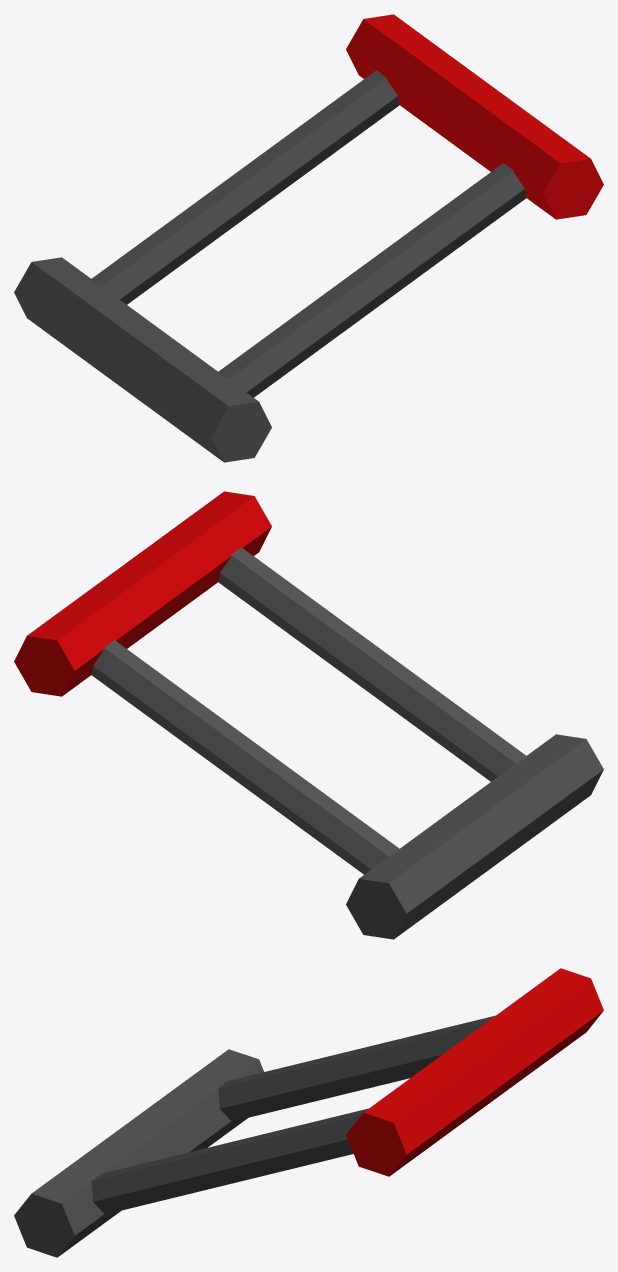
File: Handle.fbx
3 views of the same model, one above another, from view 1: azimuth 30°, elevation 25°; view 2: azimuth 150°, elevation 25°; view 3: azimuth 330°, elevation 25° (orthographic).
Parts seen in each view (by area): view 1: Cylinder.001; view 2: Cylinder.001; view 3: Cylinder.001.
Boxes of the visible parts, x1,y1,x2,y2 form: Cylinder.001: (14, 14, 603, 462); Cylinder.001: (14, 491, 603, 939); Cylinder.001: (14, 968, 603, 1257).
Size of the model in its own units: 32.17 by 17.21 by 28.
